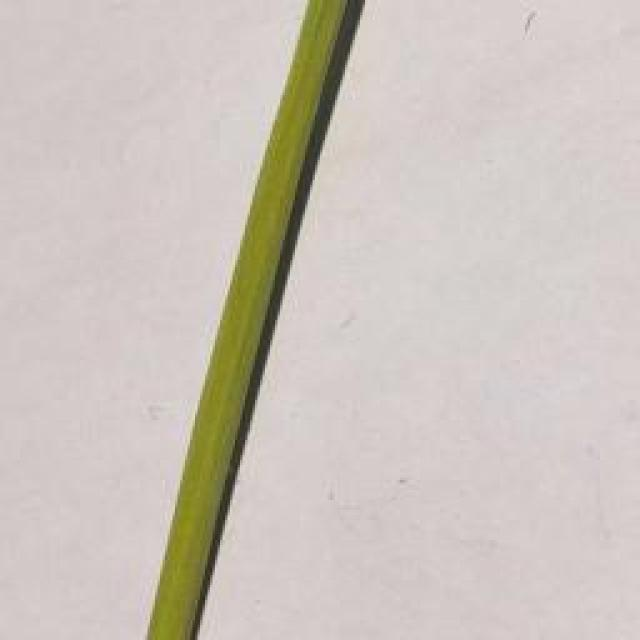Healthy-Plant: (147, 0, 345, 640)
